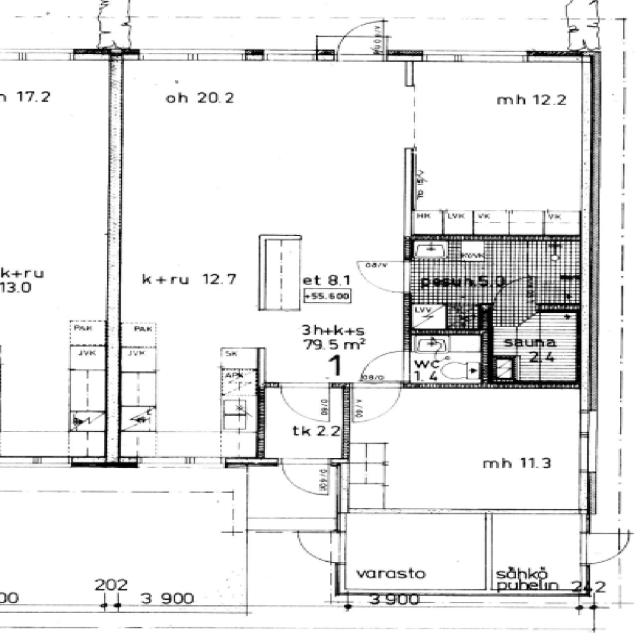door: (336, 510, 494, 599), (489, 511, 598, 595), (348, 350, 404, 425), (273, 380, 338, 424), (276, 458, 336, 500), (334, 18, 388, 61), (293, 527, 348, 566), (574, 529, 631, 565), (356, 259, 412, 294), (359, 348, 411, 382), (495, 274, 537, 300)
window: (408, 46, 532, 67), (572, 404, 603, 479), (130, 46, 256, 64), (127, 453, 232, 472), (0, 46, 82, 65), (0, 453, 78, 470), (256, 47, 330, 64)
zone: (0, 82, 122, 379), (404, 55, 592, 236), (340, 381, 596, 513), (2, 486, 245, 612), (337, 511, 488, 601), (485, 511, 589, 597), (489, 308, 583, 384), (405, 330, 487, 388)
